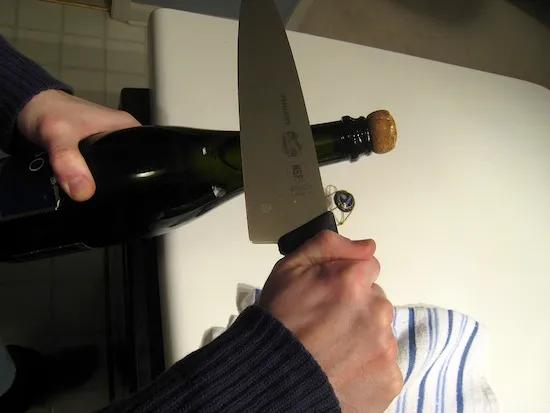Knife: (0, 29, 404, 413), (259, 237, 399, 412), (237, 0, 340, 233)
